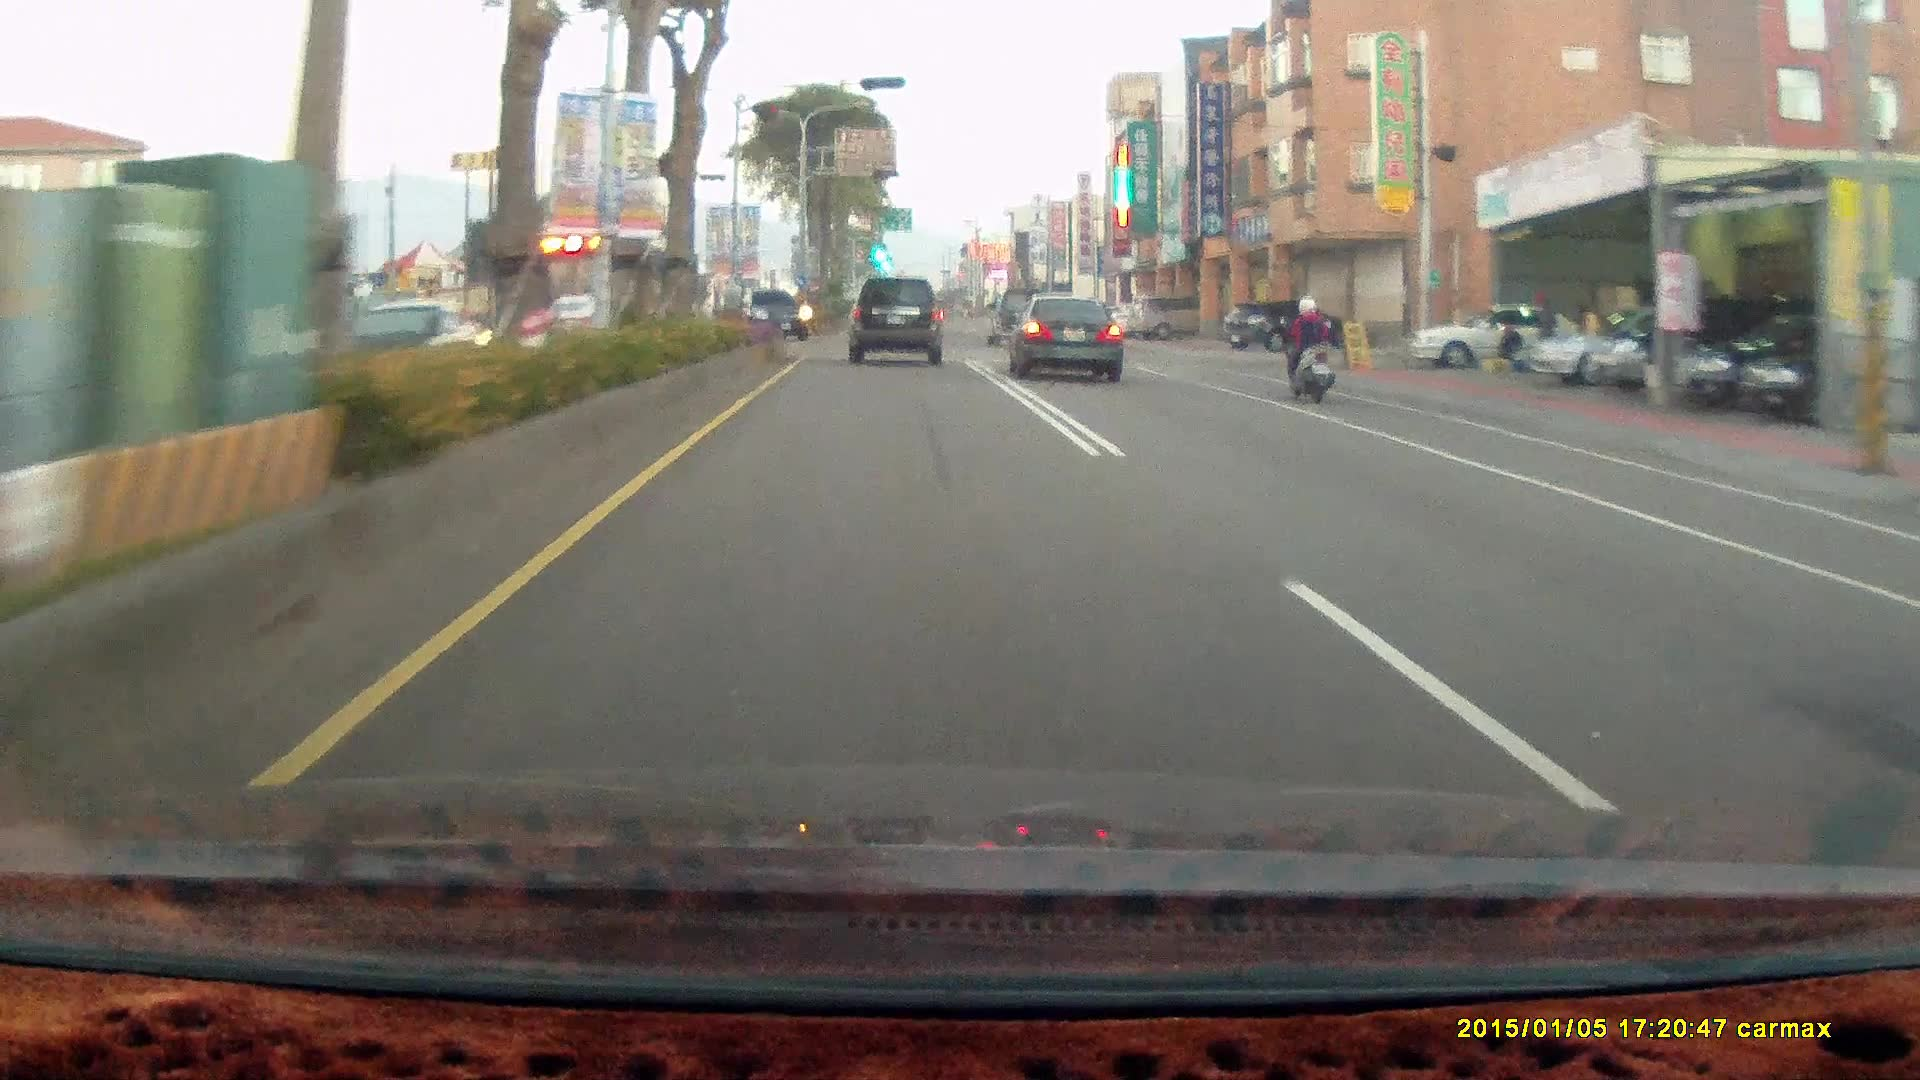pedestrian: (1532, 286, 1555, 366), (1495, 317, 1523, 370)
rider: (1272, 283, 1350, 412), (1277, 289, 1335, 396)
vehicle: (1678, 300, 1886, 412), (1678, 312, 1894, 411), (523, 227, 699, 345), (1745, 309, 1920, 424), (1746, 319, 1920, 429), (1591, 293, 1780, 390), (1531, 302, 1744, 384), (328, 298, 497, 394), (1397, 302, 1593, 377), (1406, 301, 1585, 369), (1016, 297, 1133, 393), (1003, 290, 1123, 379), (846, 279, 948, 370), (845, 275, 943, 362), (1222, 300, 1355, 354), (1219, 300, 1344, 352), (1123, 291, 1214, 340), (737, 288, 814, 342), (736, 287, 811, 339), (985, 286, 1050, 343)
